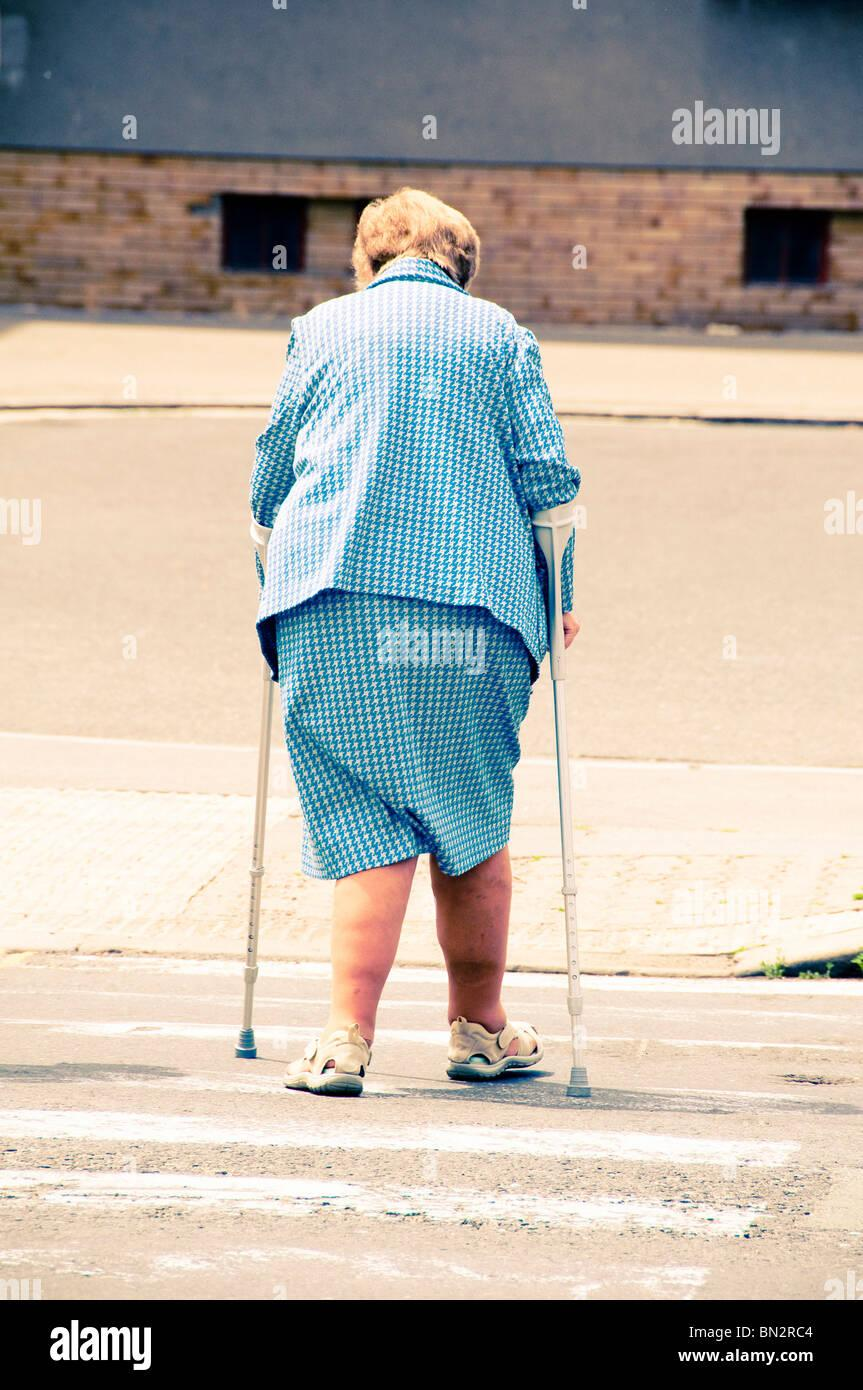crutches: (235, 187, 591, 1098)
